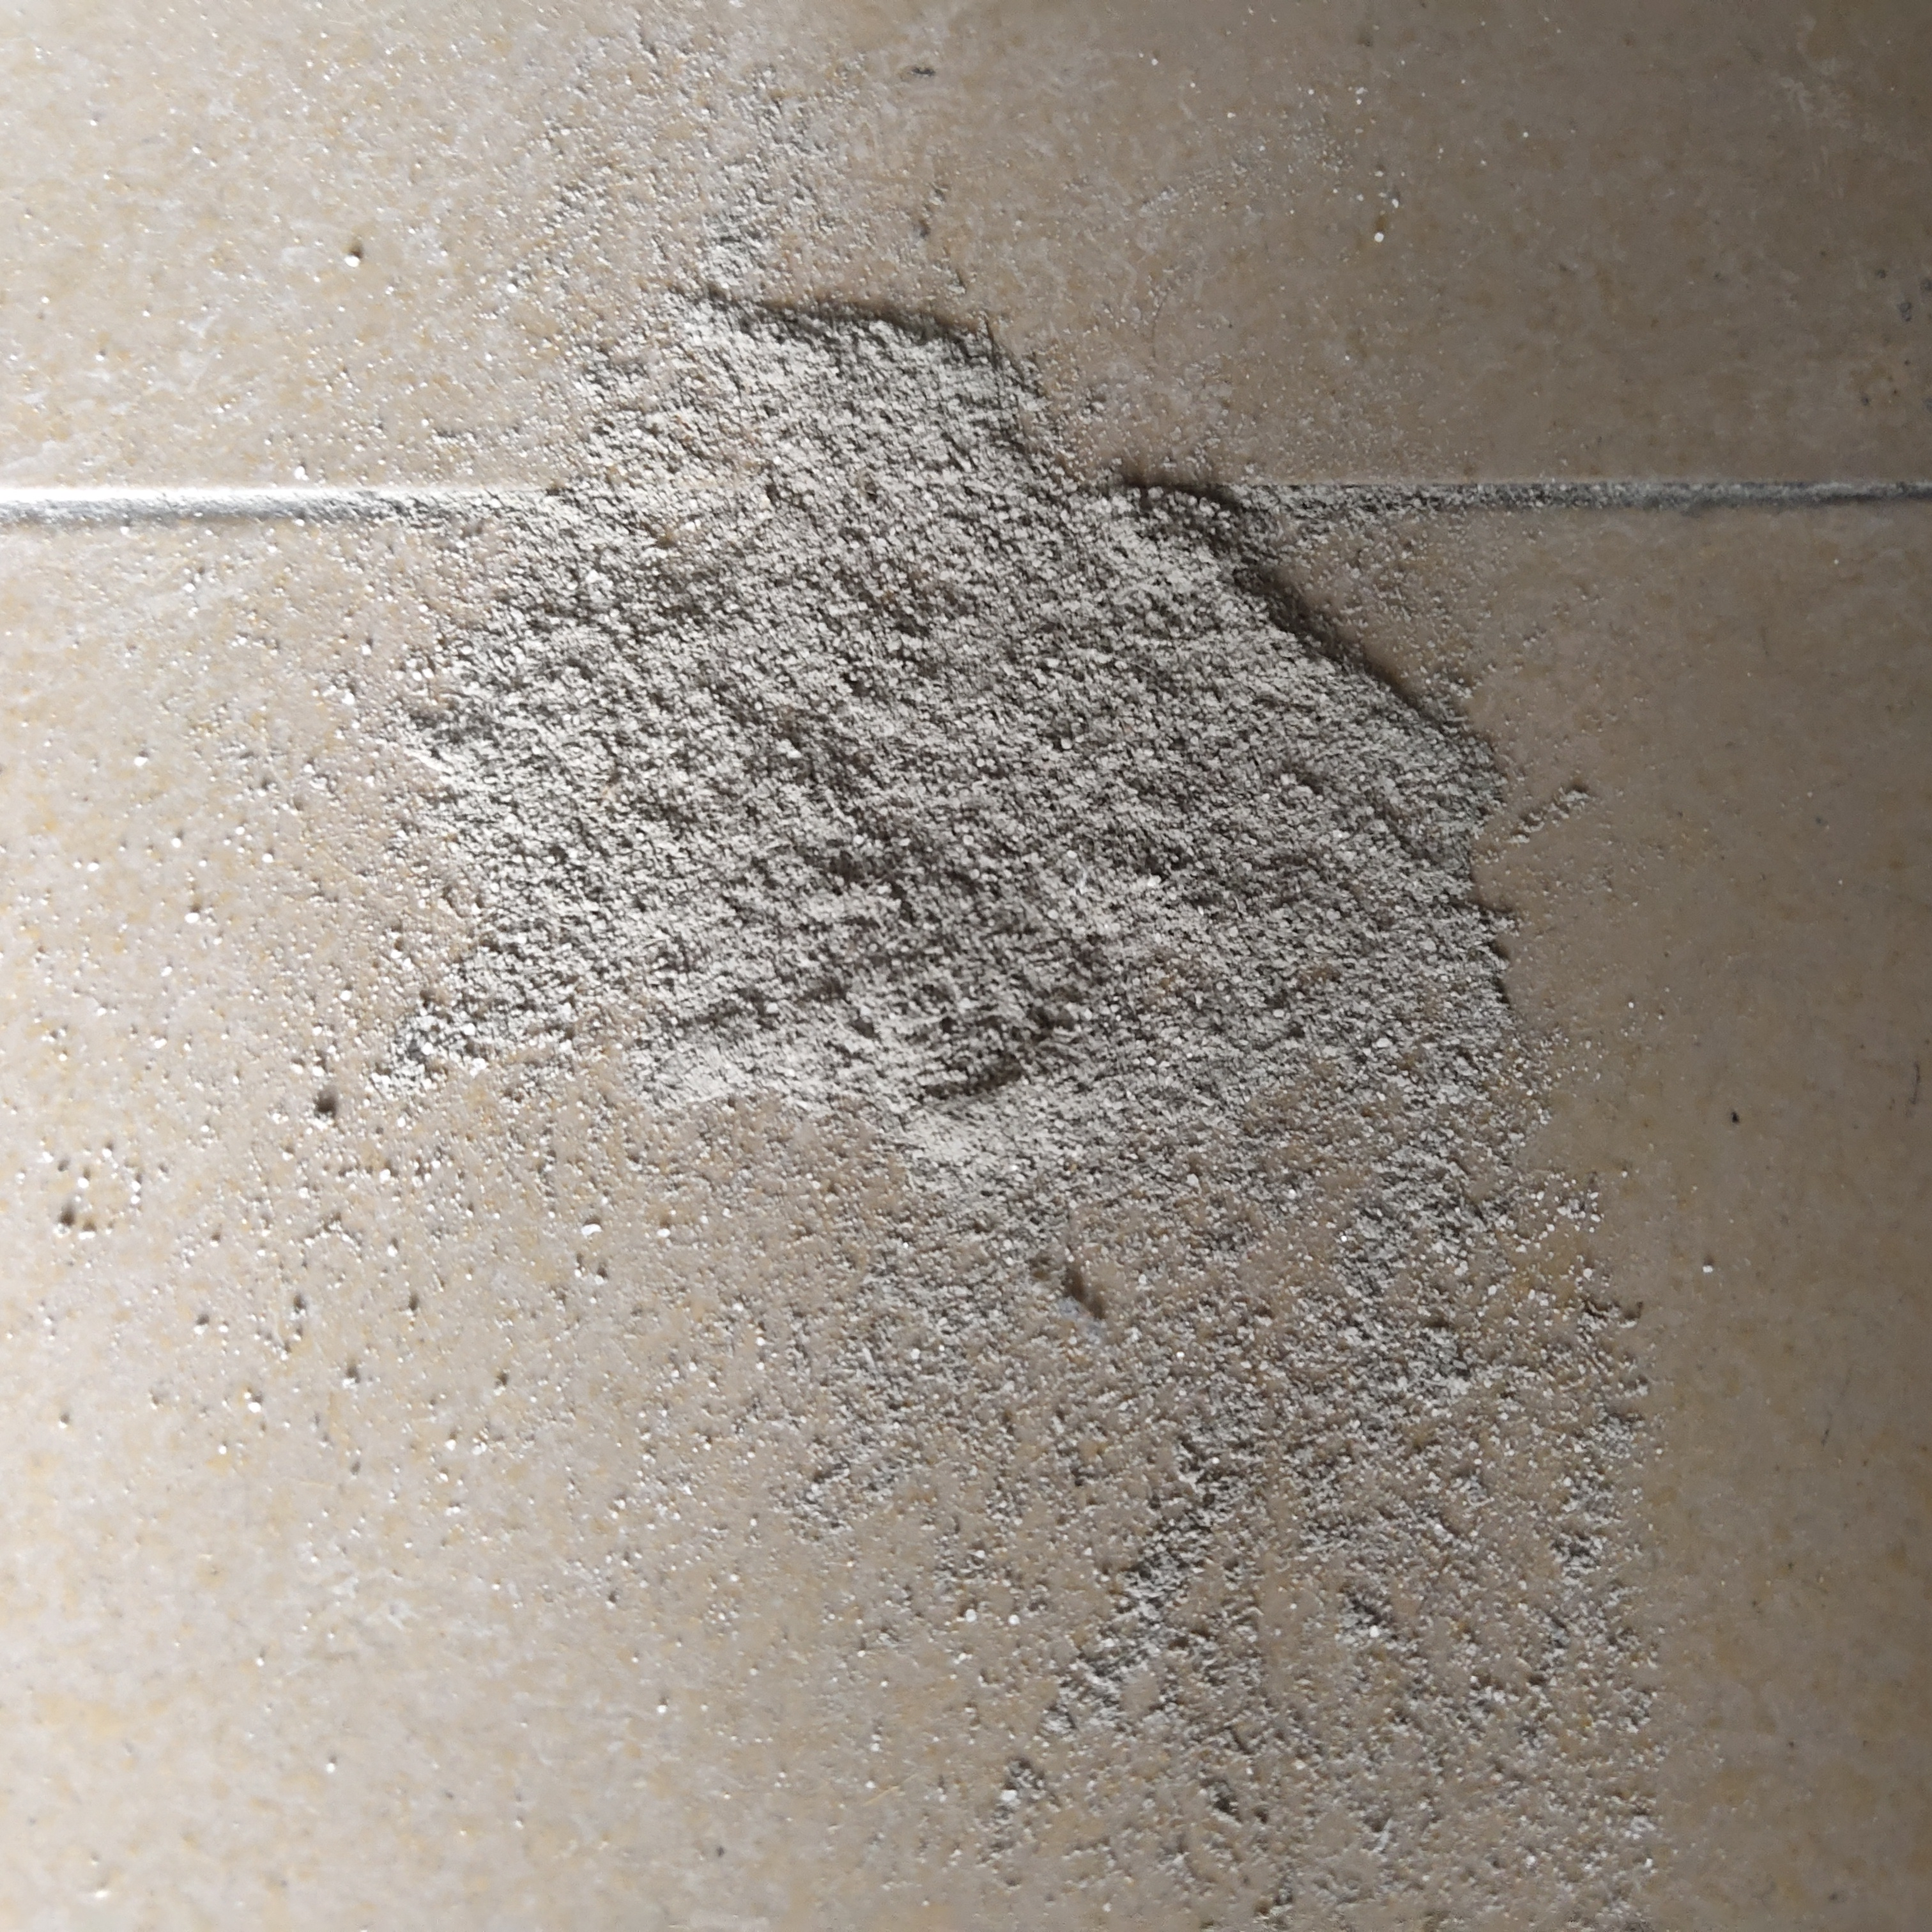ash pile: (304, 9, 1658, 1928)
